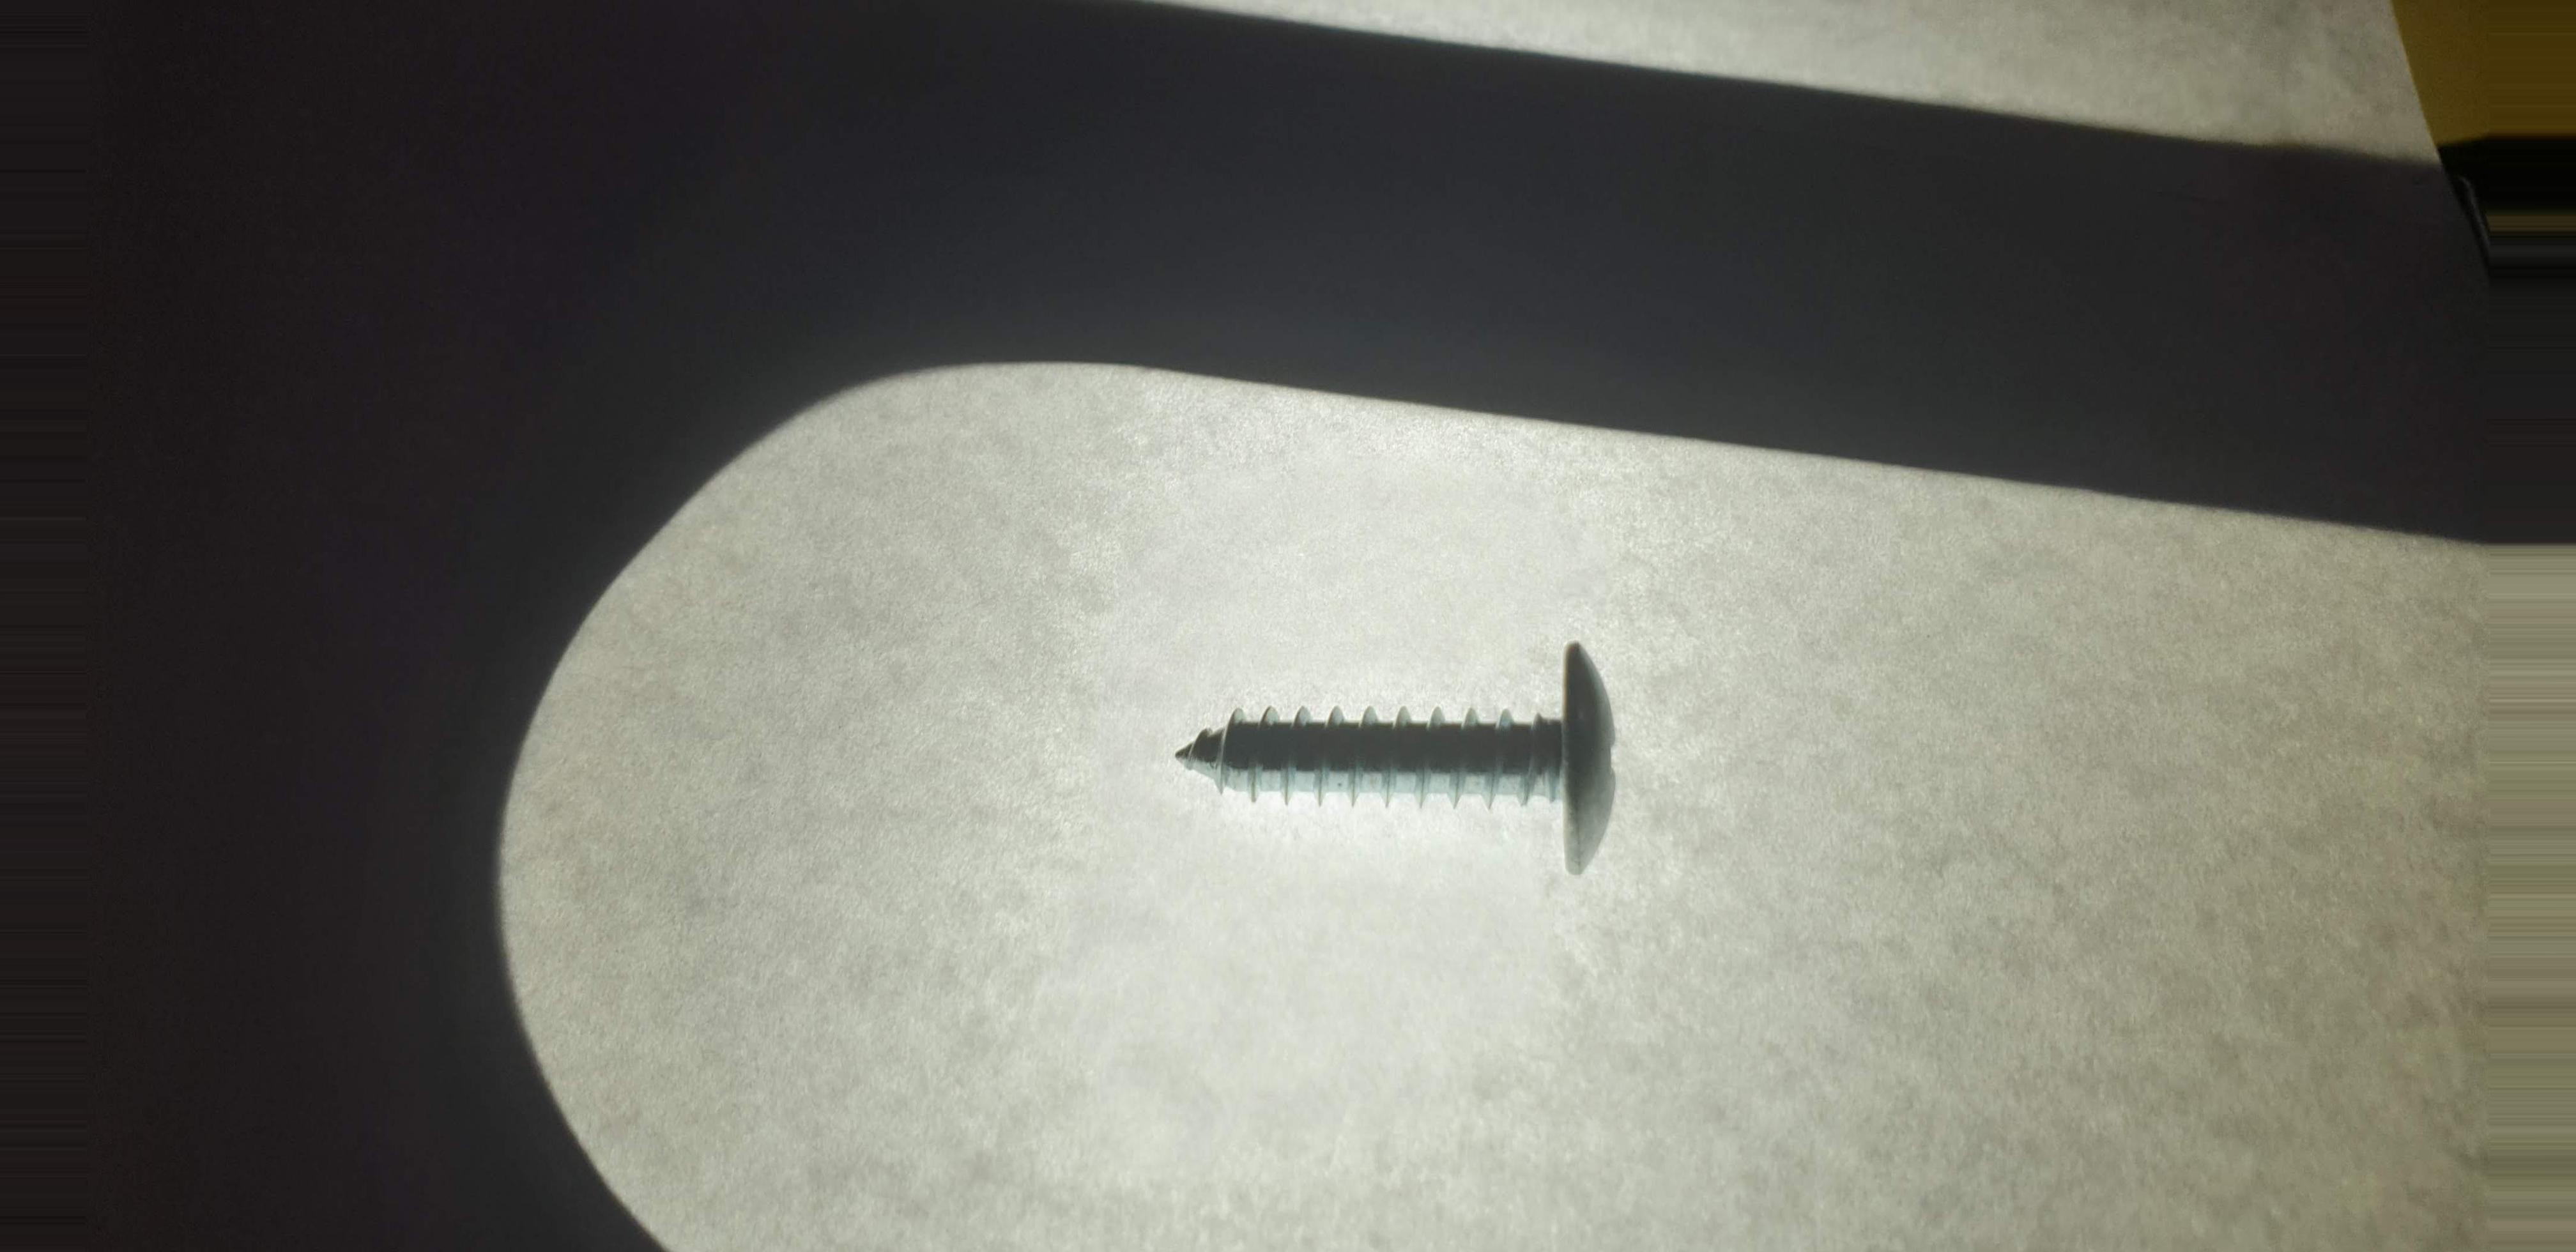S002: (1143, 590, 1692, 912)
